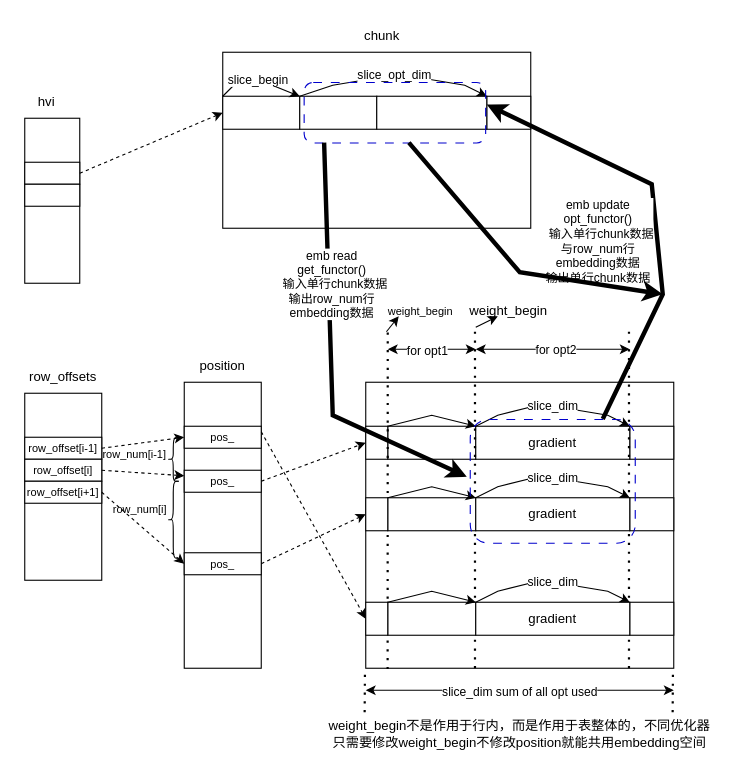
Image size: 741x774. Some labels were removed from this diagram. Here are the shapes that lost their labels. From the top down, the centre of each, then its label:
(x=338, y=112): store_w？w
(x=431, y=112): state0...staten
(x=52, y=172): hvi_idx[i]
